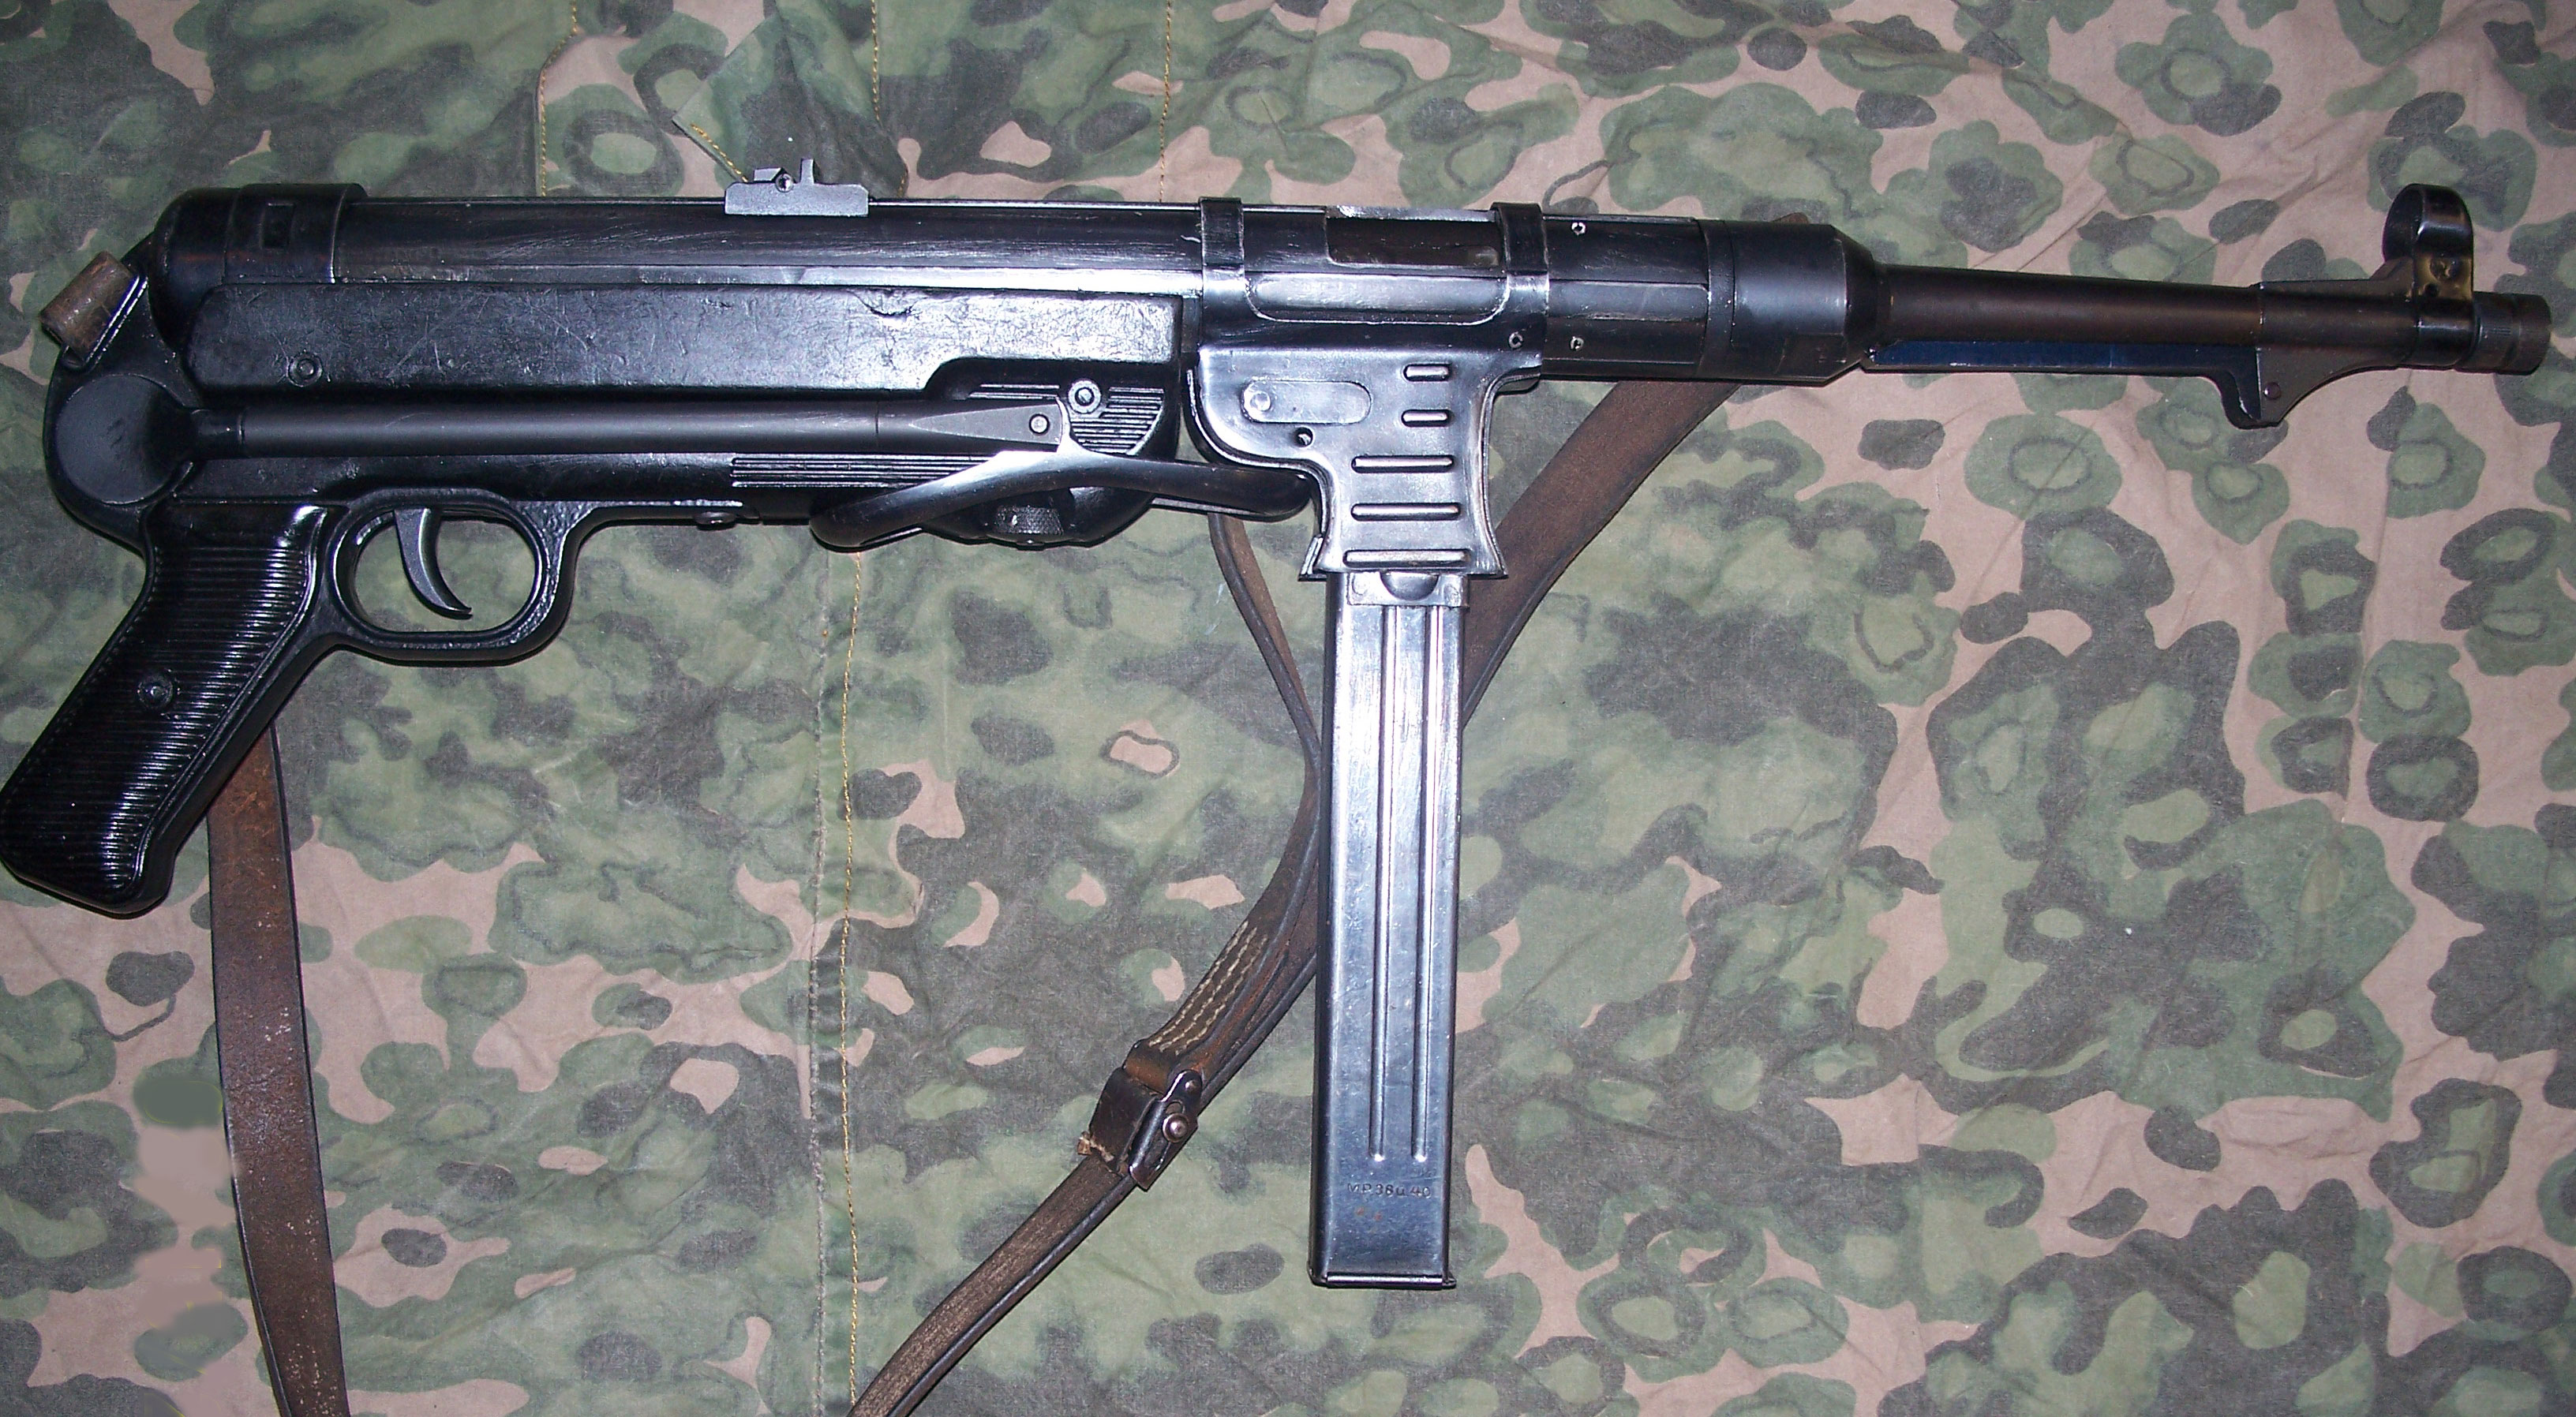rifle: (66, 79, 2492, 1239)
